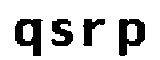p: (113, 17, 147, 60)
q: (11, 15, 47, 60)
r: (81, 16, 107, 49)
s: (48, 17, 74, 50)
